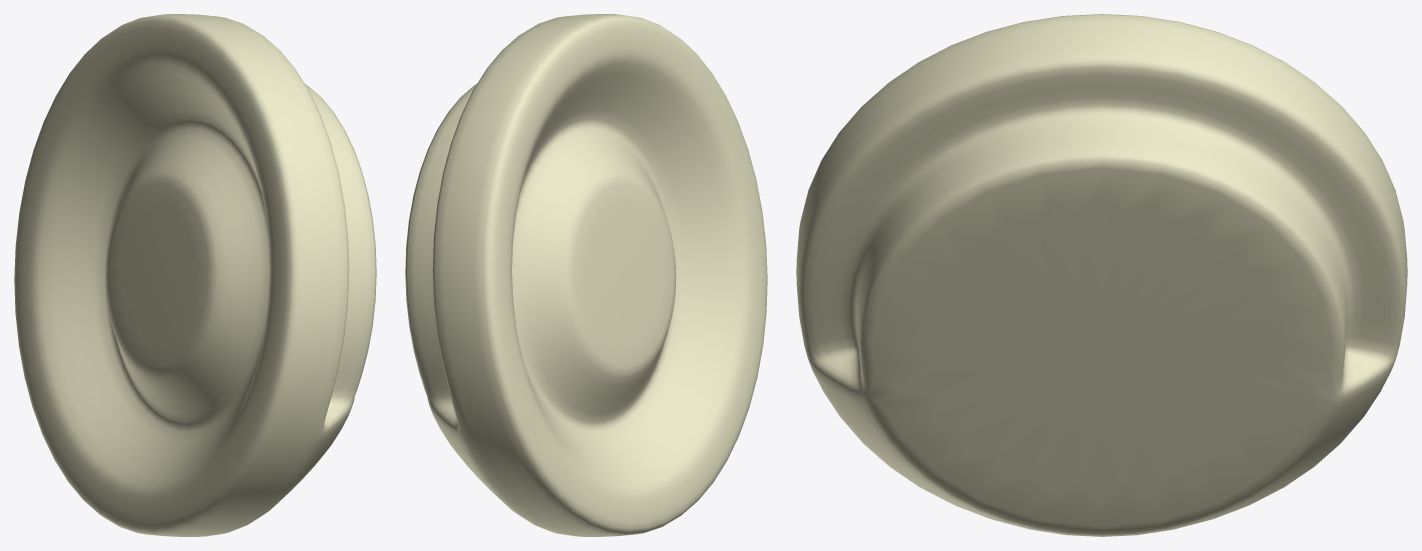
Rendered from LumenEarPieceWithoutJack.glb.
3 views of the same model, side by side, from view 1: azimuth 30°, elevation 25°; view 2: azimuth 150°, elevation 25°; view 3: azimuth 270°, elevation 25° (orthographic). The views are drawn at different scales.
Visible parts, largest first — view 1: EarpieceLeftWJack; view 2: EarpieceLeftWJack; view 3: EarpieceLeftWJack.
Part boxes in pixels (x1=…): EarpieceLeftWJack: x1=14, y1=14, x2=376, y2=536; EarpieceLeftWJack: x1=405, y1=14, x2=767, y2=536; EarpieceLeftWJack: x1=796, y1=14, x2=1407, y2=536.
Size of the model in its own units: 0.9155 by 1.96 by 1.98.
